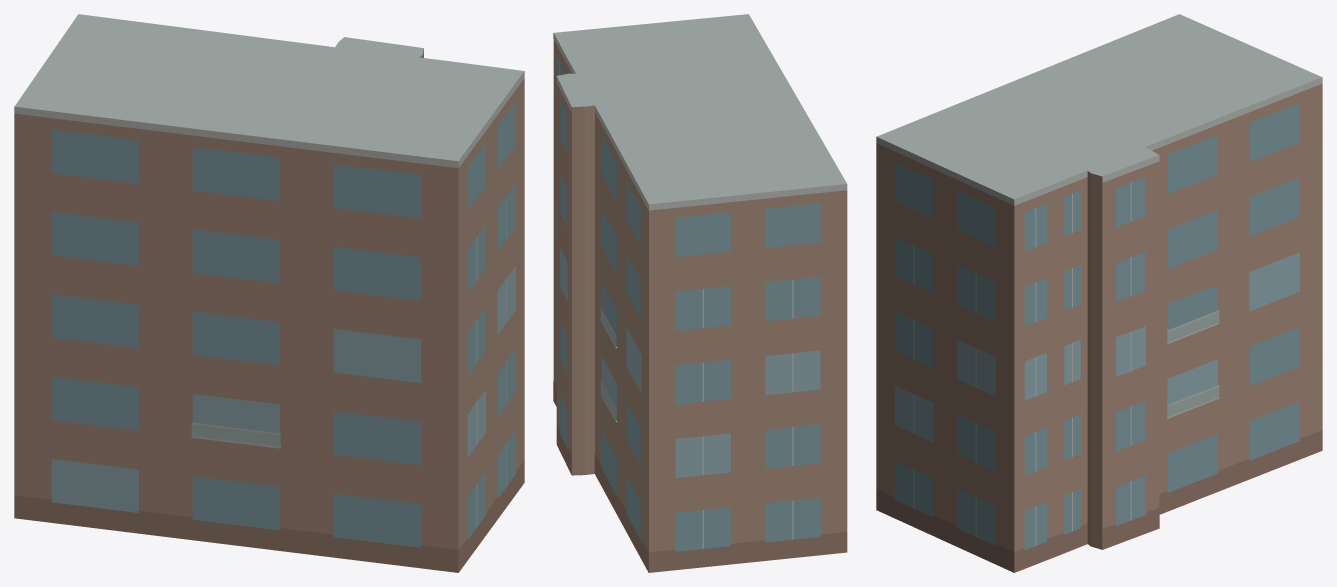
The model's file is survey-upis-32971953.glb.
3 views of the same model, side by side, from view 1: azimuth 30°, elevation 25°; view 2: azimuth 150°, elevation 25°; view 3: azimuth 270°, elevation 25° (orthographic). The views are drawn at different scales.
Parts seen in each view (by area): view 1: survey-upis-32971953.tmp; view 2: survey-upis-32971953.tmp; view 3: survey-upis-32971953.tmp.
Boxes of the visible parts, x1,y1,x2,y2 form: survey-upis-32971953.tmp: (14,14,524,572); survey-upis-32971953.tmp: (553,14,847,572); survey-upis-32971953.tmp: (876,14,1322,572).
Size of the model in its own units: 15.46 by 14.5 by 15.71.
